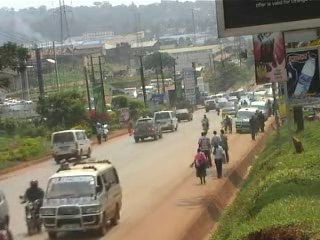Car: (132, 116, 163, 144), (0, 181, 11, 235), (173, 106, 195, 123), (219, 102, 238, 118), (200, 98, 218, 112), (237, 94, 252, 105), (217, 97, 229, 110), (227, 96, 239, 104)
Motorcycle: (17, 189, 47, 236), (199, 117, 209, 135), (240, 100, 249, 108)
